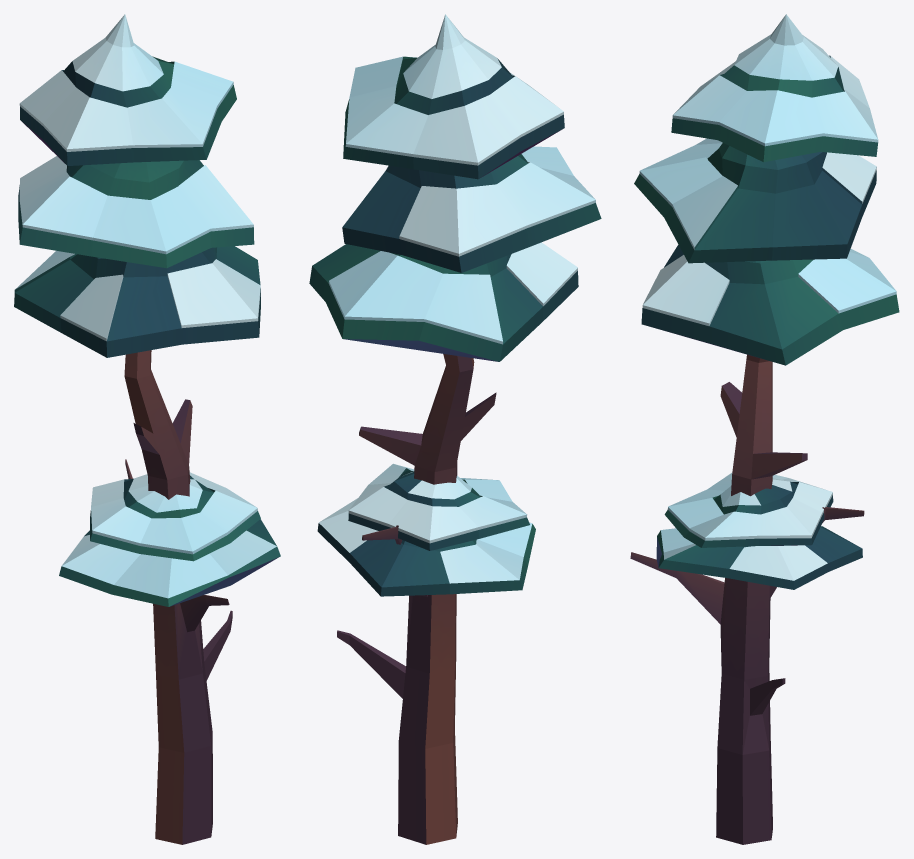
File: PineSnowTree01.fbx
The picture shows the model from 3 angles, left to right: view 1: azimuth 30°, elevation 25°; view 2: azimuth 150°, elevation 25°; view 3: azimuth 270°, elevation 25°; orthographic projection. The views are drawn at different scales.
Visible parts, largest first — view 1: TolSnowTree3; view 2: TolSnowTree3; view 3: TolSnowTree3.
Part boxes in pixels (x1=…): TolSnowTree3: x1=14, y1=14, x2=280, y2=844; TolSnowTree3: x1=309, y1=14, x2=601, y2=844; TolSnowTree3: x1=630, y1=14, x2=899, y2=844.
Size of the model in its own units: 185 by 553 by 168.
